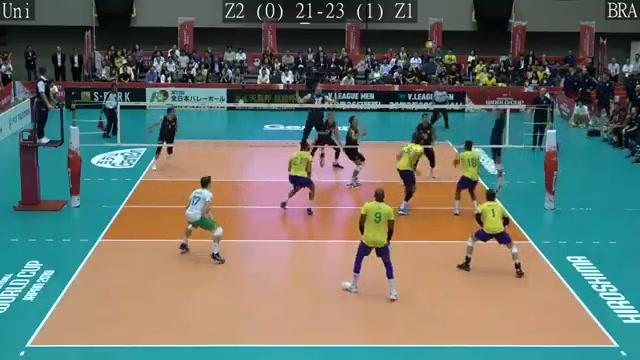ball: (424, 39, 437, 51)
